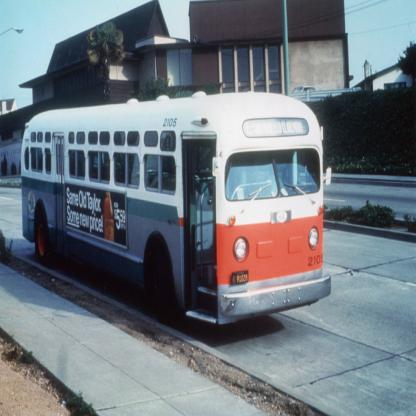Bus: (21, 90, 330, 326)
